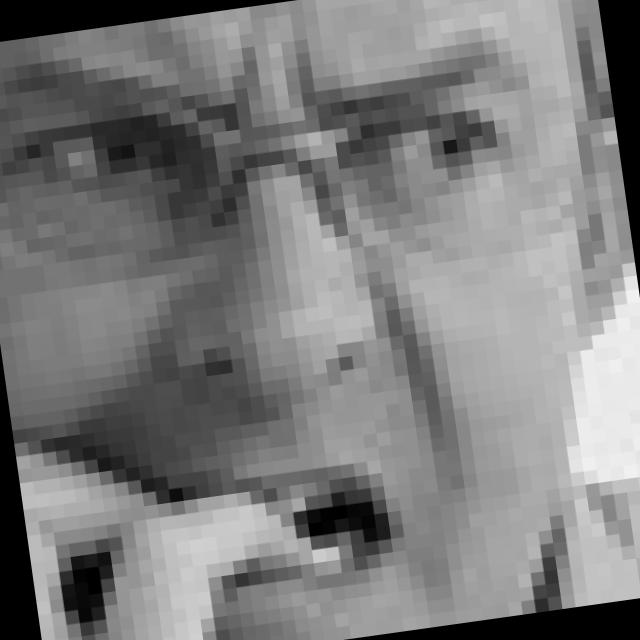fear: (0, 0, 593, 639)
